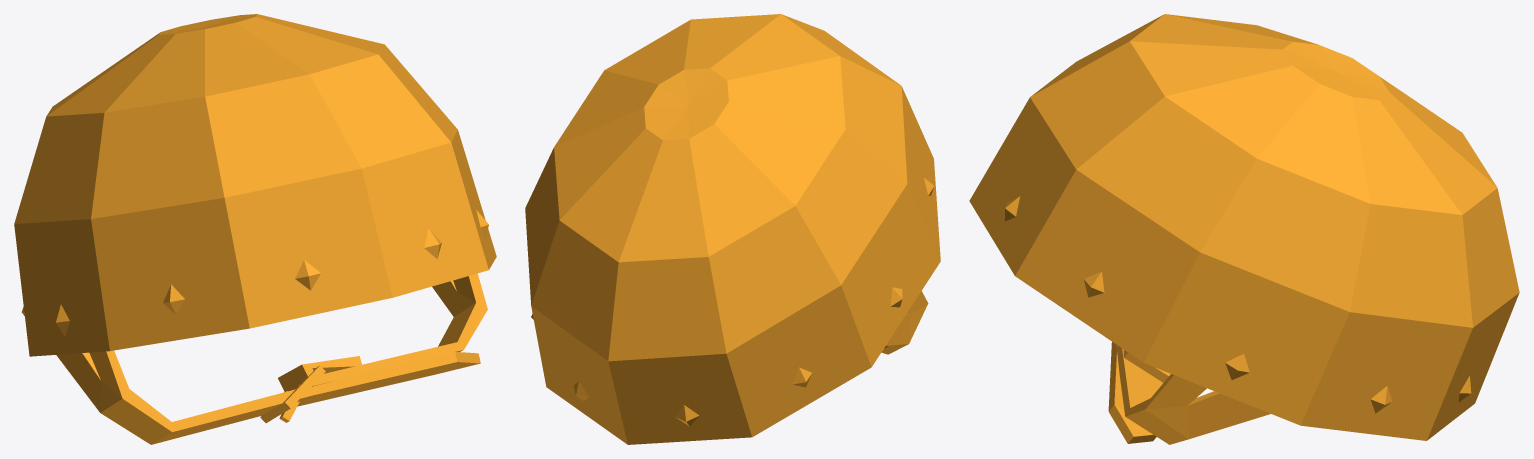
Rendered from SM_Helmet_Skull_Cap_Placed.fbx.
3 renders of one model, left to right at view 1: azimuth 30°, elevation 25°; view 2: azimuth 150°, elevation 25°; view 3: azimuth 270°, elevation 25°, orthographic. The views are drawn at different scales.
Visible parts, largest first — view 1: helmet-skull-cap-placed; view 2: helmet-skull-cap-placed; view 3: helmet-skull-cap-placed.
Boxes of the visible parts, x1=… form: helmet-skull-cap-placed: x1=14, y1=14, x2=496, y2=444; helmet-skull-cap-placed: x1=525, y1=14, x2=940, y2=444; helmet-skull-cap-placed: x1=969, y1=14, x2=1519, y2=444.
Size of the model in its own units: 0.2157 by 0.193 by 0.266.
